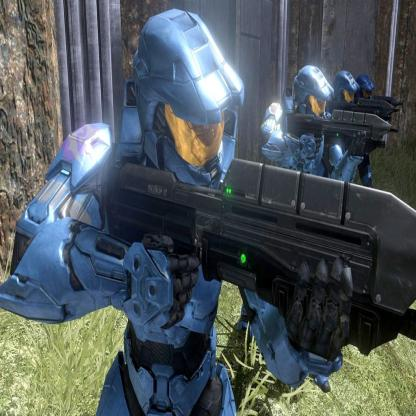Helmet: (116, 22, 241, 177), (290, 66, 332, 119), (333, 64, 360, 108), (356, 74, 376, 97)
